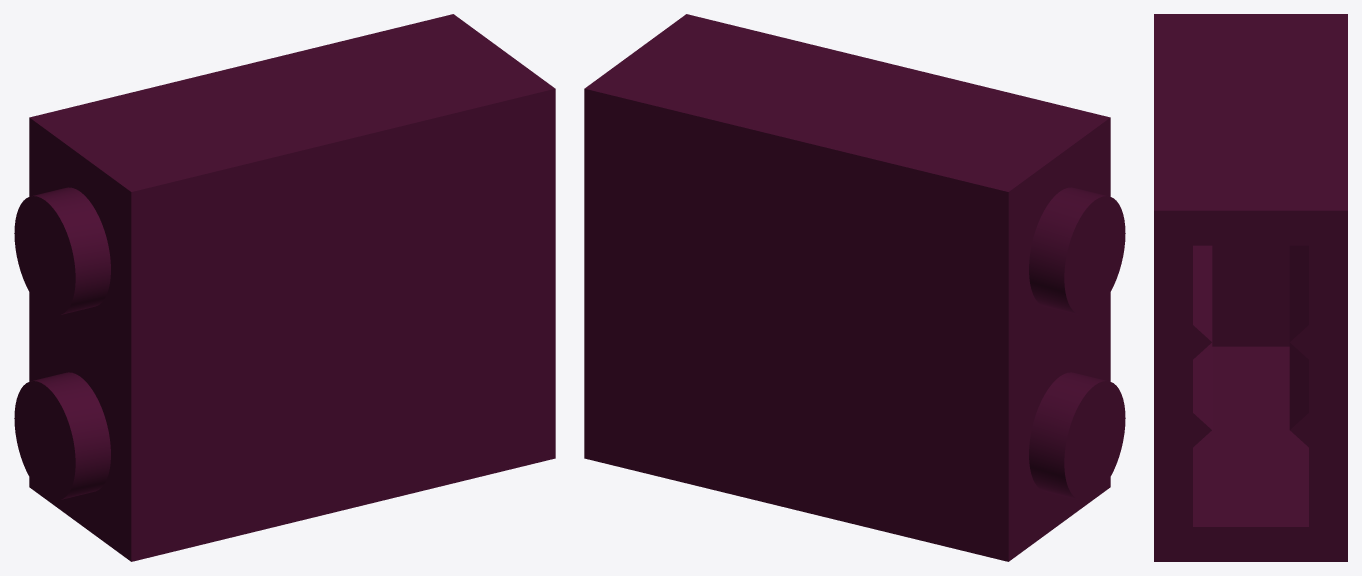
The model's file is brick1*2*2_with_inside_stud_holder_magenta.obj.
3 renders of one model, left to right at view 1: azimuth 30°, elevation 25°; view 2: azimuth 150°, elevation 25°; view 3: azimuth 270°, elevation 25°, orthographic. The views are drawn at different scales.
Parts seen in each view (by area): view 1: brick1*2*2_with_inside_stud_holder_magenta; view 2: brick1*2*2_with_inside_stud_holder_magenta; view 3: brick1*2*2_with_inside_stud_holder_magenta.
Boxes of the visible parts, x1,y1,x2,y2 form: brick1*2*2_with_inside_stud_holder_magenta: (14, 14, 555, 561); brick1*2*2_with_inside_stud_holder_magenta: (584, 14, 1125, 561); brick1*2*2_with_inside_stud_holder_magenta: (1154, 14, 1347, 561).
Size of the model in its own units: 52 by 40 by 20.
